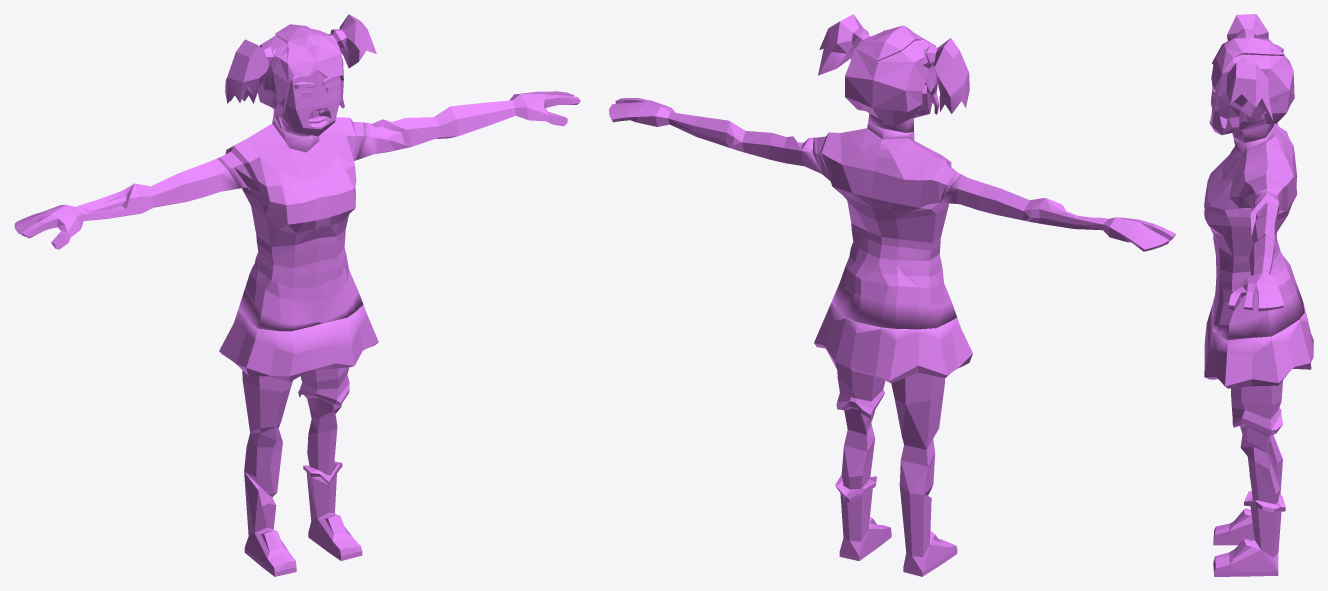
File: FinalZombieCheerleaderFemale.fbx
3 views of the same model, side by side, from view 1: azimuth 30°, elevation 25°; view 2: azimuth 150°, elevation 25°; view 3: azimuth 270°, elevation 25° (orthographic).
Visible parts, largest first — view 1: Body.004, Legs.004, Head.004, RightArm.004, LeftArm.004; view 2: Legs.004, Body.004, Head.004, RightArm.004, LeftArm.004; view 3: Legs.004, Body.004, Head.004, LeftArm.004.
Part boxes in pixels (left/top/right/bottom): Body.004: left=218, top=117, right=366, bottom=331; Legs.004: left=219, top=305, right=378, bottom=576; Head.004: left=225, top=14, right=376, bottom=136; RightArm.004: left=14, top=158, right=239, bottom=249; LeftArm.004: left=359, top=91, right=580, bottom=159; Legs.004: left=814, top=303, right=972, bottom=576; Body.004: left=812, top=124, right=959, bottom=329; Head.004: left=818, top=14, right=969, bottom=132; RightArm.004: left=941, top=174, right=1175, bottom=251; LeftArm.004: left=609, top=98, right=821, bottom=173; Legs.004: left=1204, top=302, right=1313, bottom=576; Body.004: left=1204, top=123, right=1304, bottom=340; Head.004: left=1209, top=14, right=1294, bottom=143; LeftArm.004: left=1227, top=190, right=1283, bottom=311.
Bounding box in the file's own units: 204 × 184 × 35.32.
